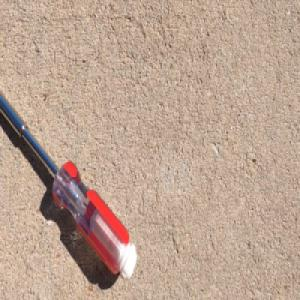Screwdriver: (0, 88, 139, 282)
